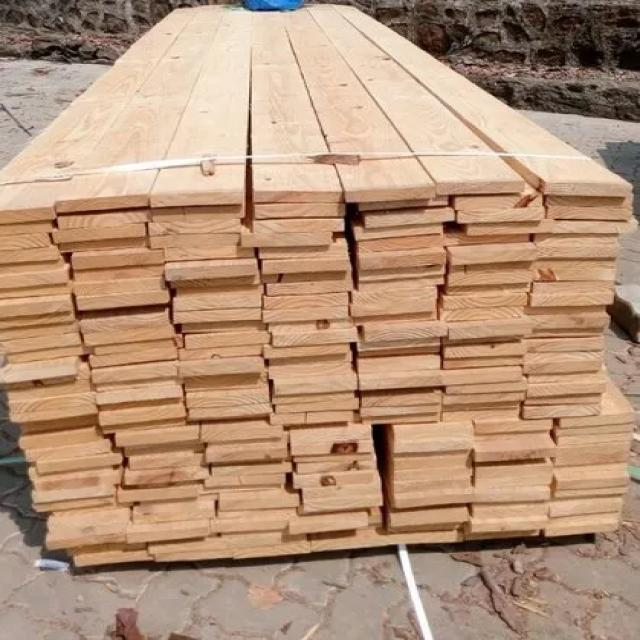have-wooden-eyes: (0, 5, 632, 567)
